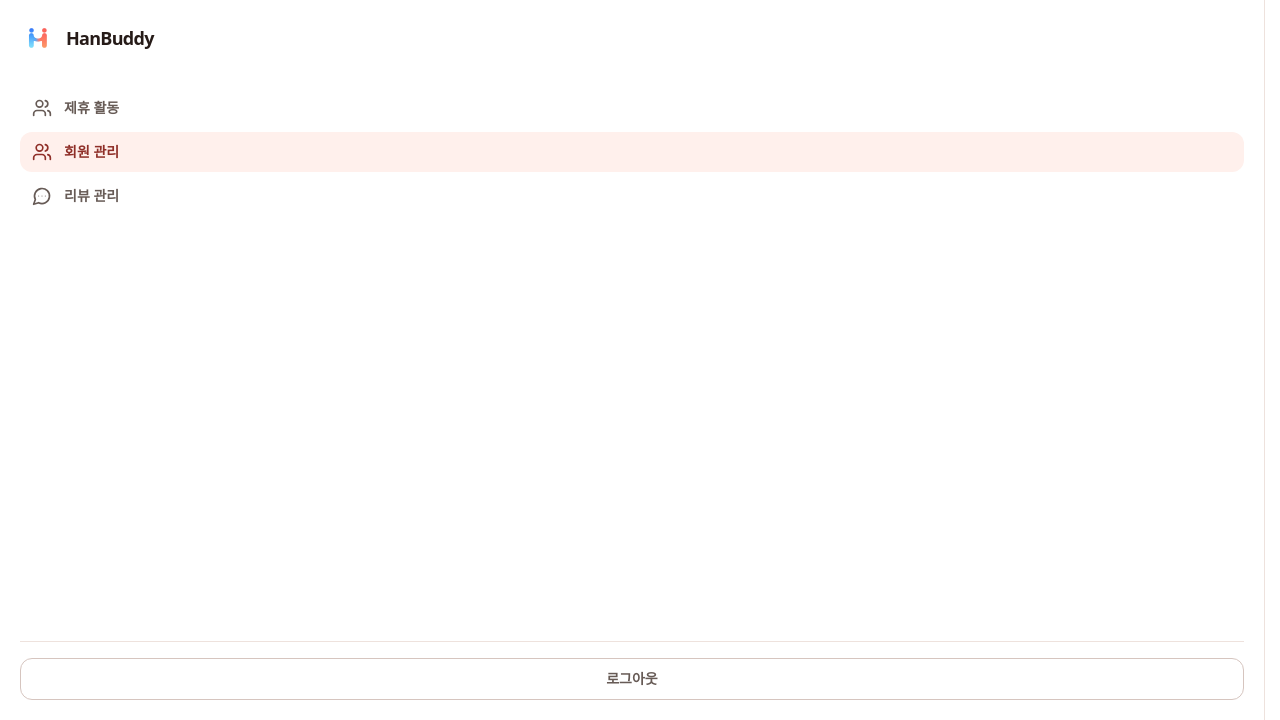
Scenario: AdminHeader › keeps the current page and shows an error when logout fails
Click the button "로그아웃". click: (632, 679)
box: [20,658,1244,700]
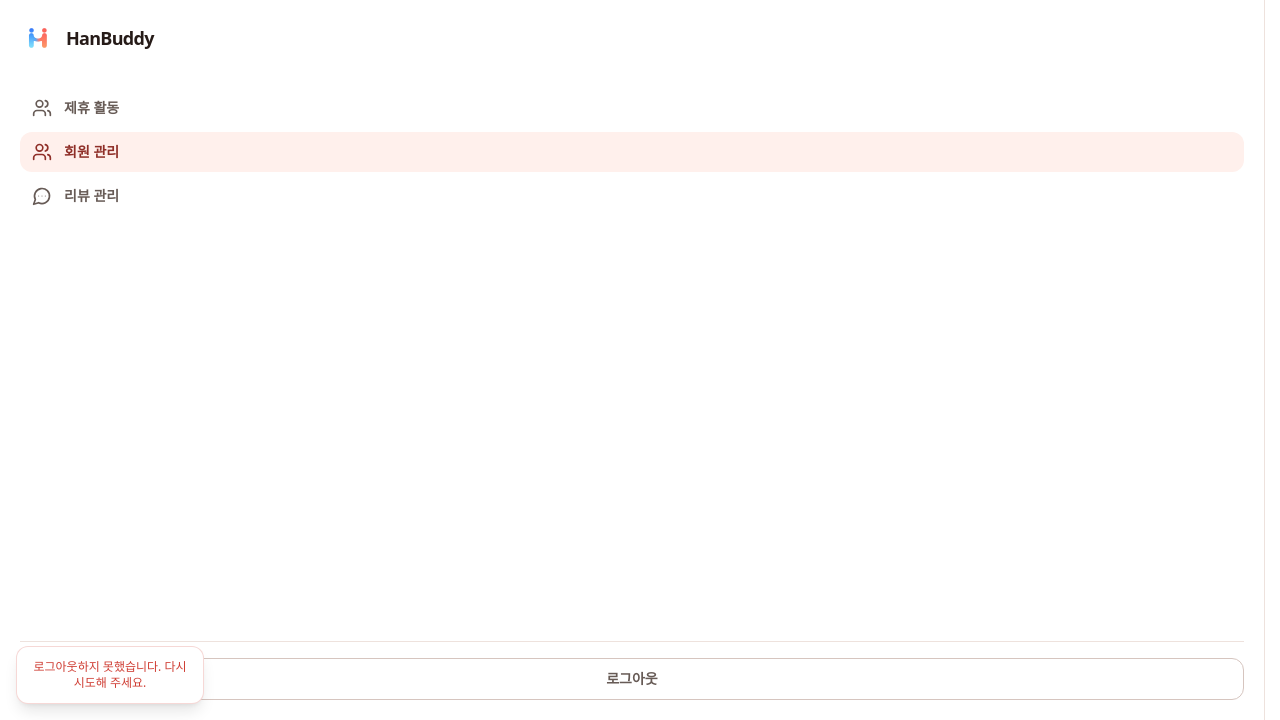
Check: the text "로그아웃하지 못했습니다. 다시 시도해 주세요." is shown, box [16,646,204,704]
